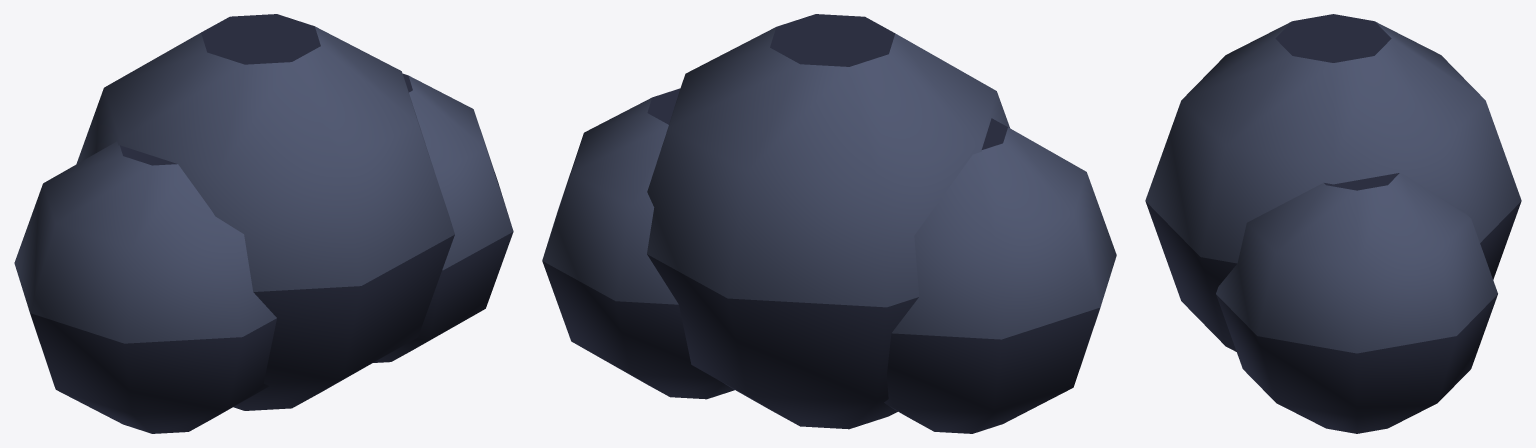
File: SM_VFX_SmokePuff_HQ.glb
3 renders of one model, left to right at view 1: azimuth 30°, elevation 25°; view 2: azimuth 150°, elevation 25°; view 3: azimuth 270°, elevation 25°, orthographic. The views are drawn at different scales.
Visible parts, largest first — view 1: SM_VFX_SmokePuff_HQ; view 2: SM_VFX_SmokePuff_HQ; view 3: SM_VFX_SmokePuff_HQ.
Part boxes in pixels (x1,y1,x2,y2): SM_VFX_SmokePuff_HQ: (14,14,513,433); SM_VFX_SmokePuff_HQ: (542,14,1116,433); SM_VFX_SmokePuff_HQ: (1145,14,1521,433).
Size of the model in its own units: 2.27 by 1.52 by 1.6.
1 material, 1 textured.
